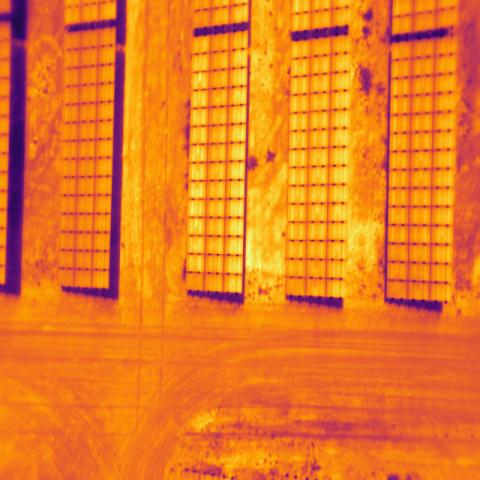fault: (191, 72, 210, 90)
